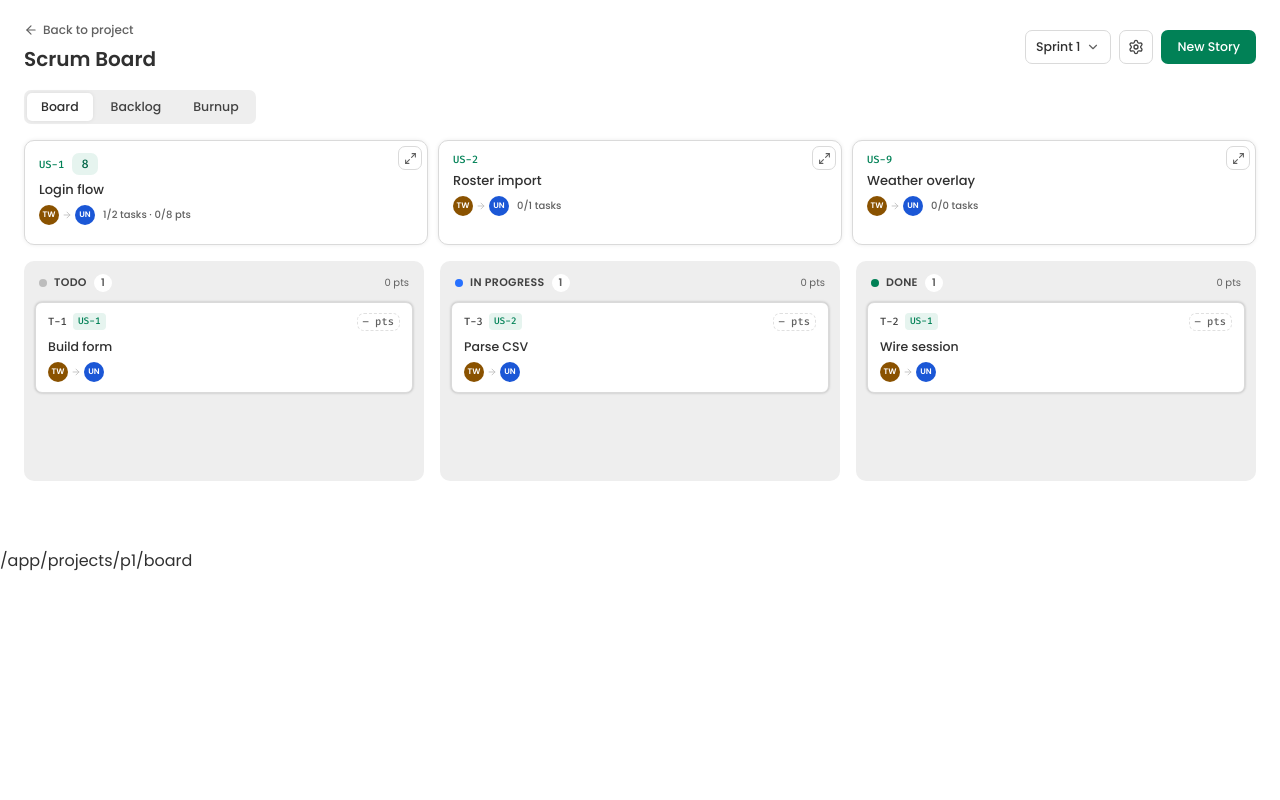
Test case: ScrumBoardPage create story (F13) › creates the story and lands in it so tasks can be added next
Check: the text "Login flow" is shown, box [39,181,104,198]
Click the button "New Story" at (1209, 47), box [1162,30,1256,64]
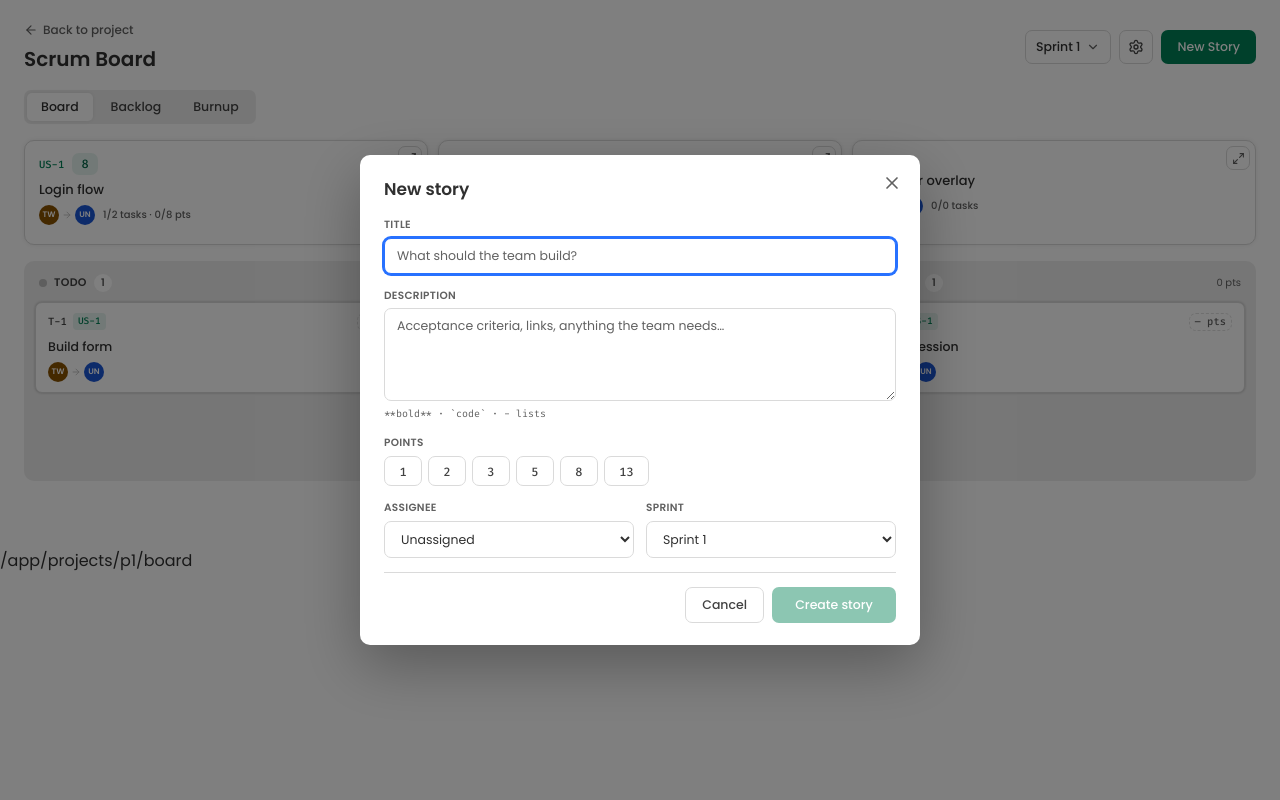
Type "Weather overlay" into the field labelled "Title" at (640, 256), box [384,238,896,274]
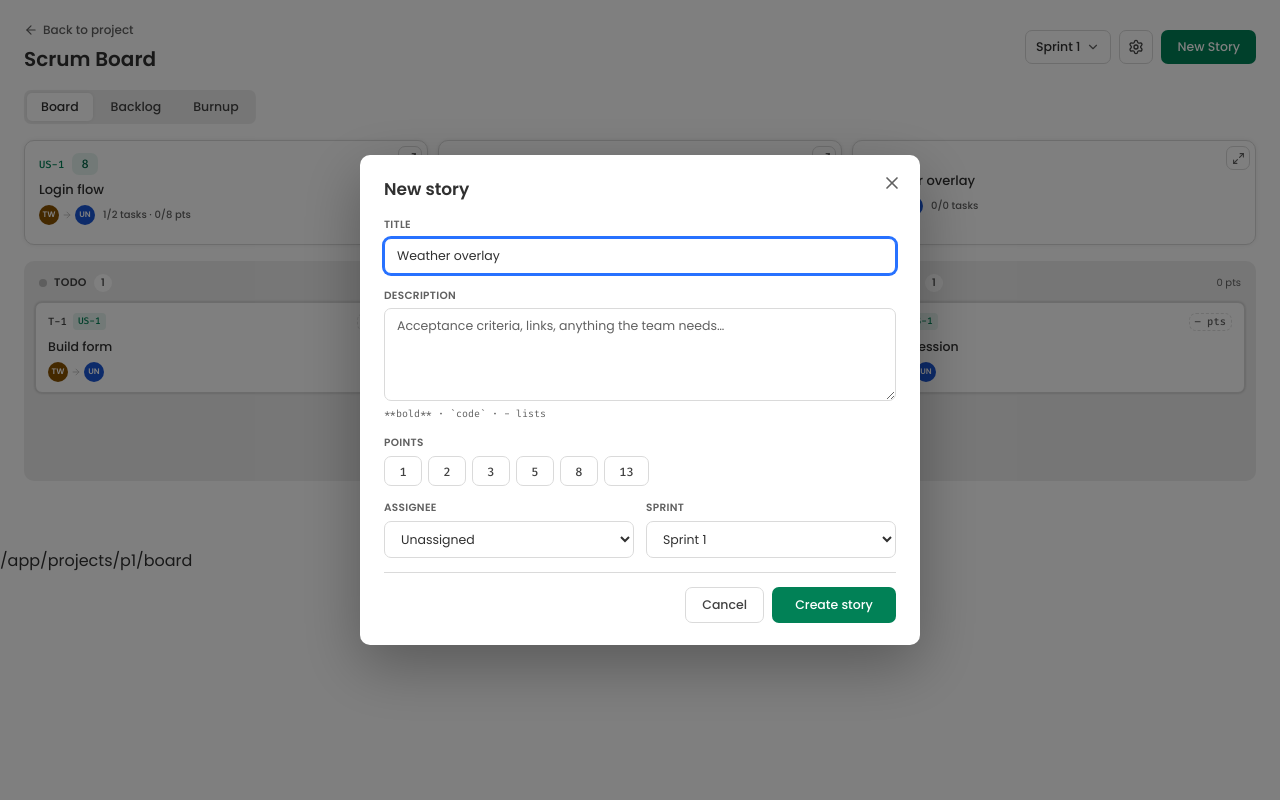
Click the button "Create story" at (834, 605), box [772,587,896,623]
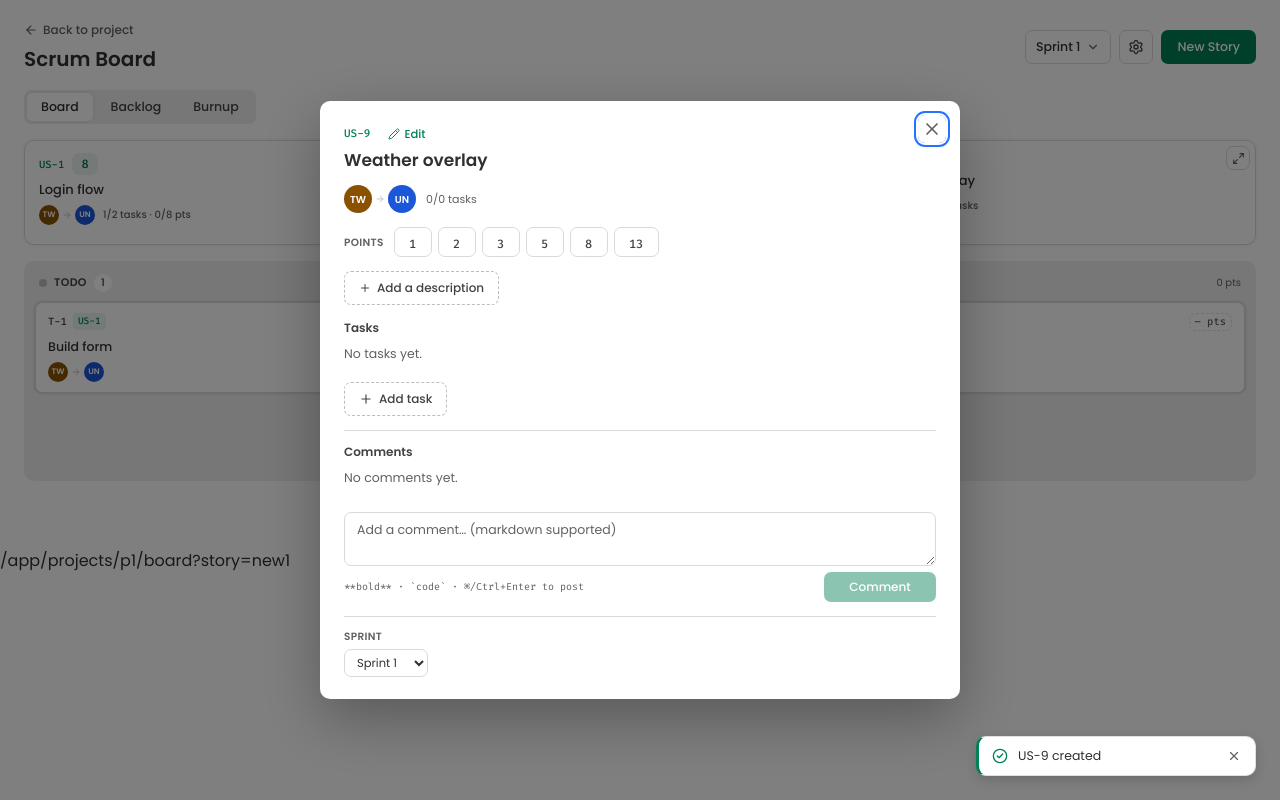
Check: the button "Add task" is shown, box [344,382,447,416]
